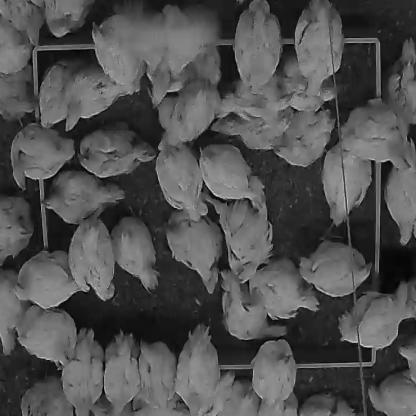chicken: (205, 193, 275, 282), (342, 99, 414, 171), (165, 208, 223, 296), (220, 269, 287, 341), (198, 144, 268, 212), (295, 0, 345, 94), (249, 256, 320, 322), (65, 64, 131, 135), (300, 234, 373, 298), (322, 138, 372, 229), (14, 250, 90, 309), (235, 1, 283, 93), (80, 122, 157, 179), (41, 172, 124, 224), (11, 125, 75, 191), (110, 207, 159, 292), (92, 15, 146, 92), (176, 324, 221, 415), (156, 143, 209, 220), (359, 282, 415, 352), (61, 328, 106, 415), (69, 217, 115, 302), (275, 109, 337, 169), (18, 304, 76, 368), (176, 7, 221, 85), (338, 293, 398, 350), (214, 108, 292, 151), (224, 76, 294, 121), (285, 55, 340, 111), (252, 338, 297, 406), (105, 331, 140, 415), (383, 38, 416, 126), (163, 6, 200, 81), (41, 63, 83, 129), (140, 339, 178, 410), (384, 164, 415, 247), (147, 45, 183, 111), (1, 197, 34, 266), (1, 269, 26, 356), (21, 376, 76, 415), (1, 1, 46, 48), (1, 63, 37, 121), (44, 1, 97, 39), (368, 373, 415, 415), (1, 16, 32, 74), (141, 12, 167, 81), (217, 380, 260, 415), (298, 392, 356, 416), (258, 394, 299, 415), (399, 341, 415, 385), (132, 409, 188, 415)
